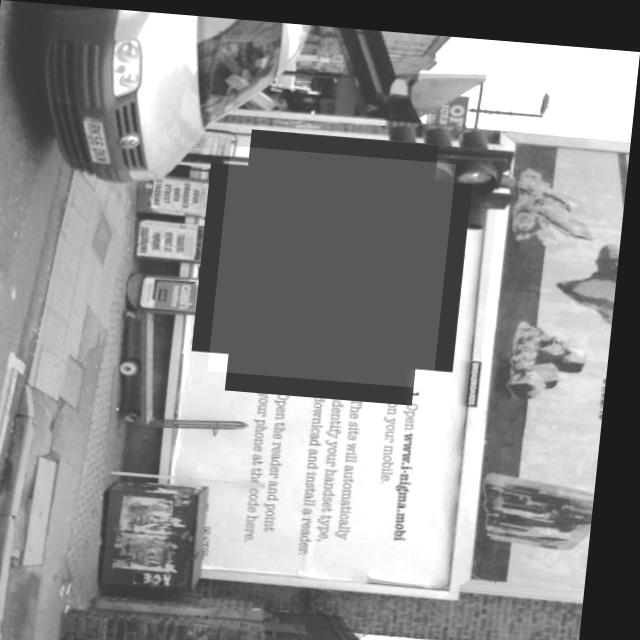qr_code: (214, 142, 458, 381)
